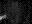person: (1, 13, 7, 20)
